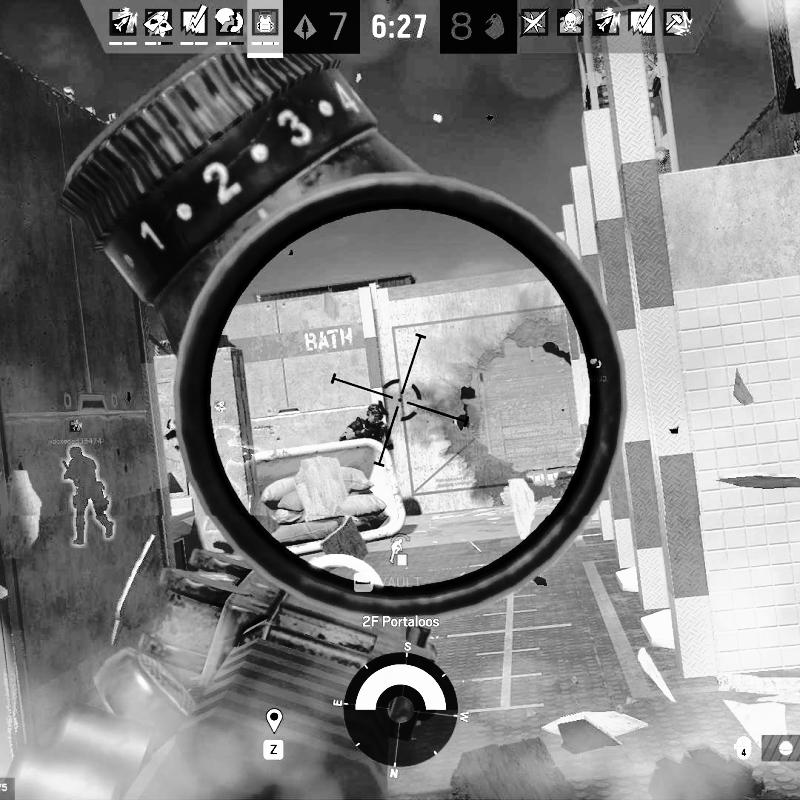Character: (338, 401, 396, 454)
Friend_label: (46, 418, 103, 447), (582, 358, 610, 384), (210, 400, 231, 426)
Head: (366, 402, 385, 425)
